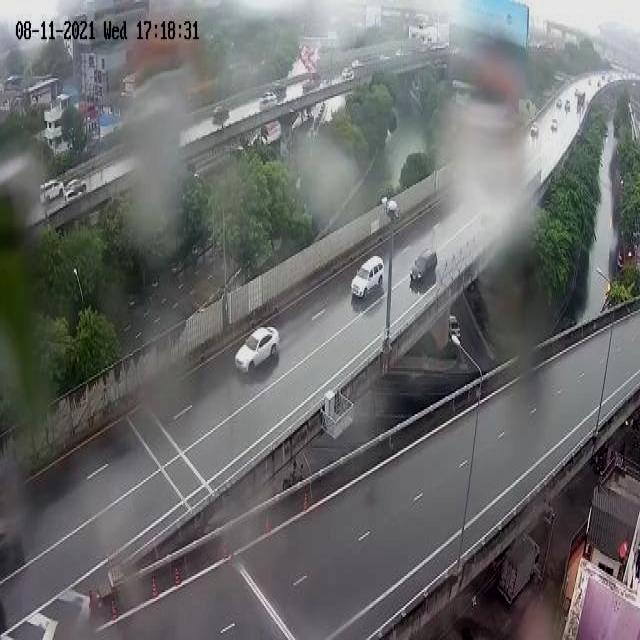Car: (235, 323, 279, 375), (351, 254, 384, 298), (410, 245, 437, 287), (37, 180, 66, 206)
Truck: (496, 533, 542, 613)
